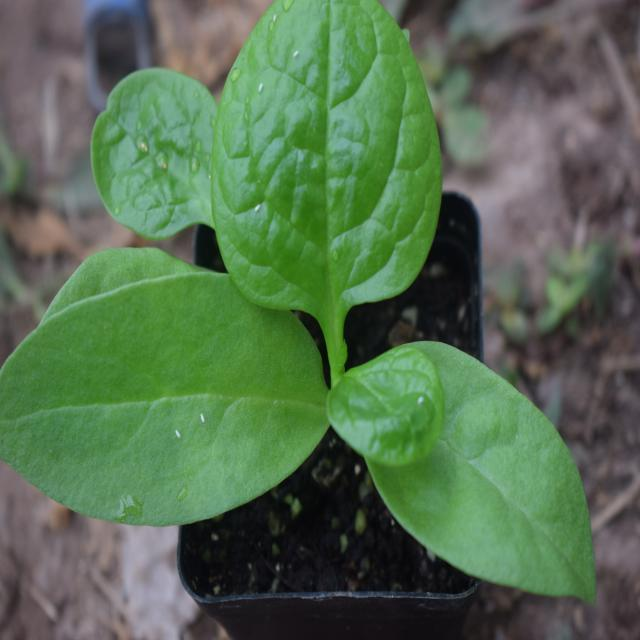Ceylon spinach: (45, 30, 574, 612)
